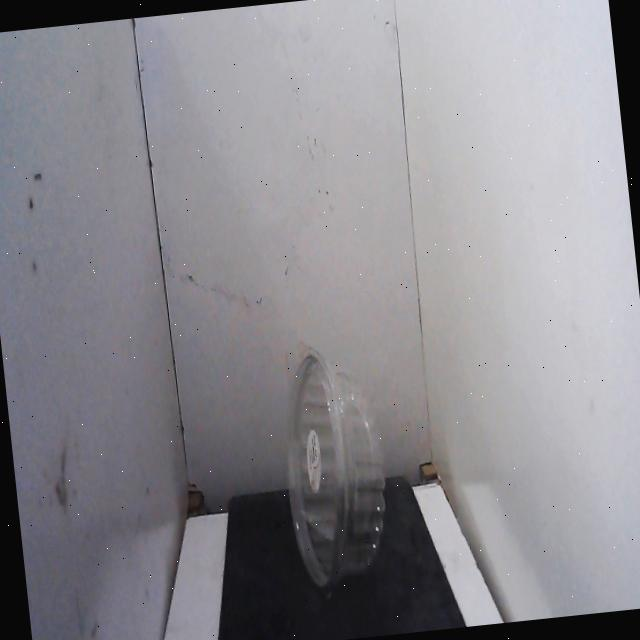plastico: (261, 322, 408, 612)
